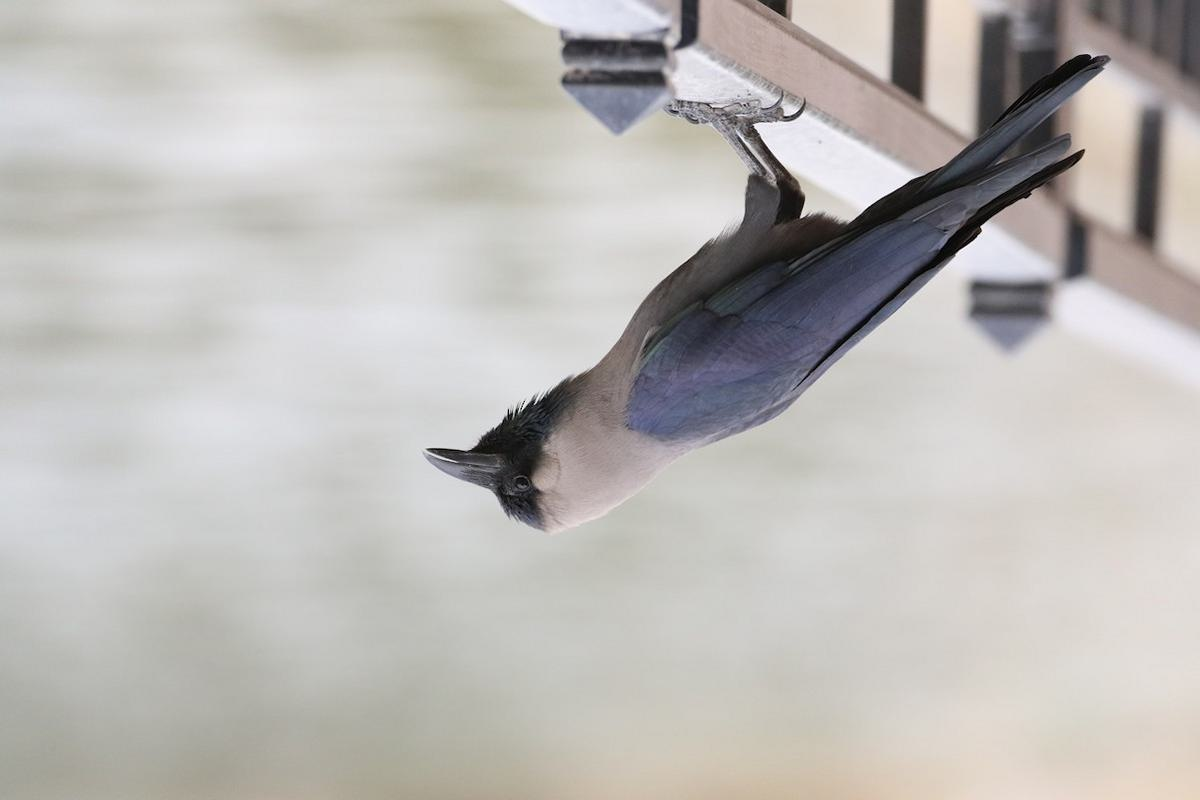crow: (411, 51, 1124, 542)
